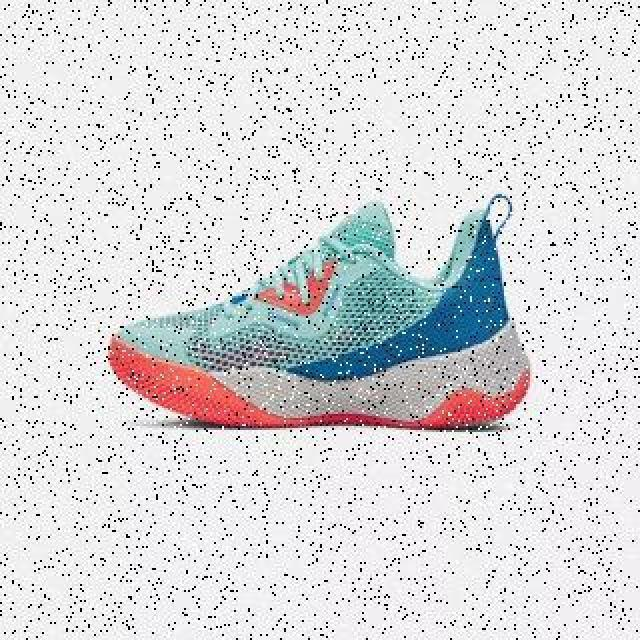shoes: (109, 196, 531, 430)
